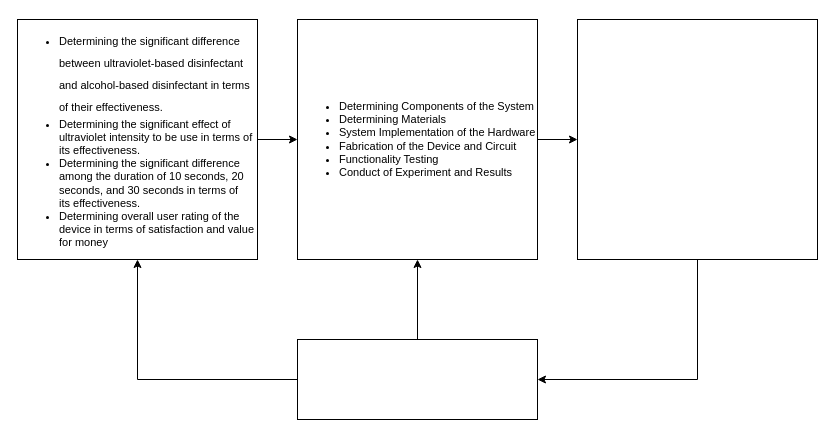
Image size: 835x437. Some labels were removed from this diagram. The centre of each missing label's shape, as x and y in pixels:
"*title*" belongs at pixel 697 139.
"Feedback" belongs at pixel 417 379.
